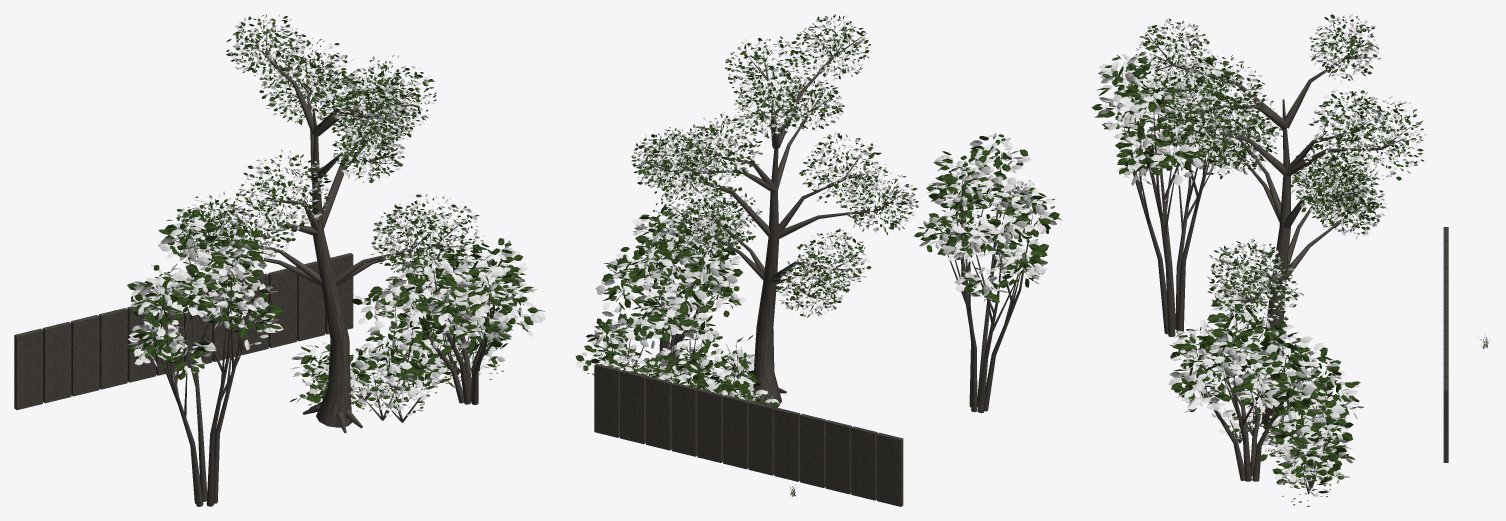
File: SM_Env_Tile_p0_p2.fbx
The picture shows the model from 3 angles, left to right: view 1: azimuth 30°, elevation 25°; view 2: azimuth 150°, elevation 25°; view 3: azimuth 270°, elevation 25°; orthographic projection. The views are drawn at different scales.
Parts seen in each view (by area): view 1: SM_Env_Tile_p0_p2; view 2: SM_Env_Tile_p0_p2; view 3: SM_Env_Tile_p0_p2.
Boxes of the visible parts, x1,y1,x2,y2 form: SM_Env_Tile_p0_p2: (14, 14, 546, 506); SM_Env_Tile_p0_p2: (575, 14, 1062, 506); SM_Env_Tile_p0_p2: (1091, 14, 1490, 506).
Size of what is drawn, in the model's own units: 1594 by 1238 by 1327.
Materials: 7 (3 with a texture image).
